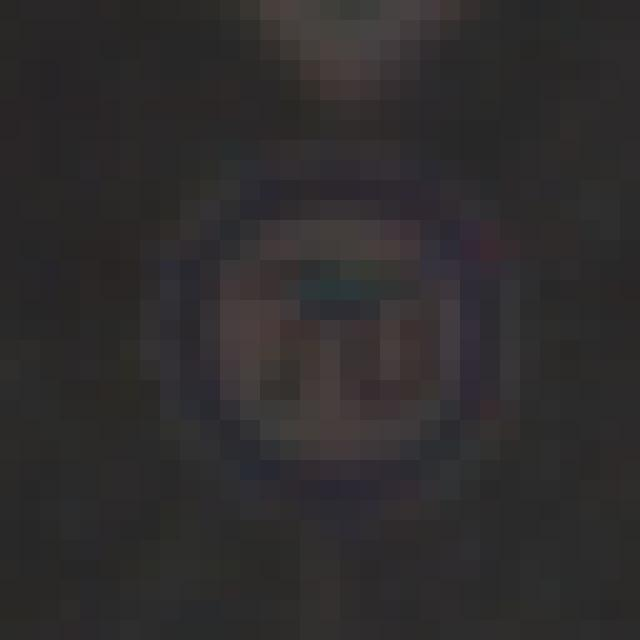SPEED LIMIT 70: (177, 197, 533, 496)
